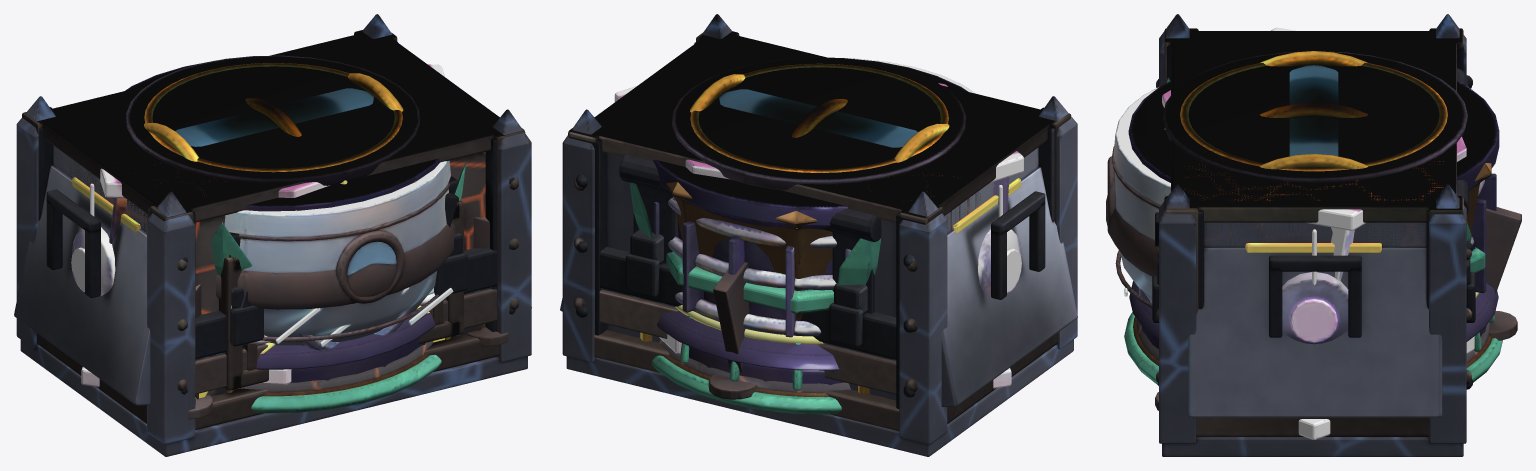
Rendered from CrateKitExpansion.glb.
3 renders of one model, left to right at view 1: azimuth 30°, elevation 25°; view 2: azimuth 150°, elevation 25°; view 3: azimuth 270°, elevation 25°, orthographic. The views are drawn at different scales.
Visible parts, largest first — view 1: Crate_Cinder_Body, Crate_Runic_Body, Crate_Comet_Body, Crate_Bastion_Body, Crate_Nova_Body, Crate_Quasar_Body, Crate_Tidal_Body, Crate_Bastion_Lid, Crate_Quasar_Lid, Crate_Verdant_Lid, Crate_Cinder_Lid, Crate_Eclipse_Body (+3 smaller); view 2: Crate_Runic_Body, Crate_Bastion_Body, Crate_Cinder_Body, Crate_Nova_Body, Crate_Quasar_Body, Crate_Verdant_Body, Crate_Bastion_Lid, Crate_Tidal_Body, Crate_Cinder_Lid, Crate_Quasar_Lid, Crate_Verdant_Lid, Crate_Comet_Body (+4 smaller); view 3: Crate_Bastion_Body, Crate_Cinder_Body, Crate_Runic_Body, Crate_Nova_Body, Crate_Quasar_Body, Crate_Comet_Body, Crate_Tidal_Body, Crate_Verdant_Body, Crate_Mirage_Body, Crate_Halo_Body, Crate_Verdant_Lid, Crate_Quasar_Lid (+2 smaller).
Part boxes in pixels (x1,y1,x2,y2): Crate_Cinder_Body: [22, 30, 525, 429]; Crate_Runic_Body: [16, 14, 531, 456]; Crate_Comet_Body: [188, 160, 508, 419]; Crate_Bastion_Body: [14, 40, 531, 405]; Crate_Nova_Body: [126, 55, 450, 392]; Crate_Quasar_Body: [71, 60, 440, 382]; Crate_Tidal_Body: [144, 73, 403, 161]; Crate_Bastion_Lid: [195, 233, 497, 359]; Crate_Quasar_Lid: [256, 313, 435, 369]; Crate_Verdant_Lid: [251, 354, 441, 413]; Crate_Cinder_Lid: [195, 288, 497, 394]; Crate_Eclipse_Body: [240, 180, 433, 396]; Crate_Runic_Body: [562, 14, 1077, 456]; Crate_Bastion_Body: [560, 41, 1077, 408]; Crate_Cinder_Body: [568, 31, 1071, 431]; Crate_Nova_Body: [640, 57, 965, 394]; Crate_Quasar_Body: [653, 58, 1021, 385]; Crate_Verdant_Body: [629, 88, 958, 320]; Crate_Bastion_Lid: [599, 230, 896, 359]; Crate_Tidal_Body: [690, 74, 949, 162]; Crate_Cinder_Lid: [599, 289, 896, 394]; Crate_Quasar_Lid: [657, 311, 838, 370]; Crate_Verdant_Lid: [651, 316, 841, 414]; Crate_Comet_Body: [708, 58, 975, 399]; Crate_Bastion_Body: [1155, 45, 1472, 417]; Crate_Cinder_Body: [1156, 28, 1471, 436]; Crate_Runic_Body: [1159, 14, 1468, 456]; Crate_Nova_Body: [1162, 51, 1467, 182]; Crate_Quasar_Body: [1128, 81, 1499, 348]; Crate_Comet_Body: [1106, 87, 1521, 410]; Crate_Tidal_Body: [1260, 51, 1367, 169]; Crate_Verdant_Body: [1142, 77, 1491, 273]; Crate_Mirage_Body: [1162, 27, 1466, 439]; Crate_Halo_Body: [1180, 63, 1447, 171]; Crate_Verdant_Lid: [1124, 312, 1502, 384]; Crate_Quasar_Lid: [1129, 281, 1498, 341].
Size of the model in its own units: 1.85 by 1.11 by 1.57.
22 materials, 22 textured.
